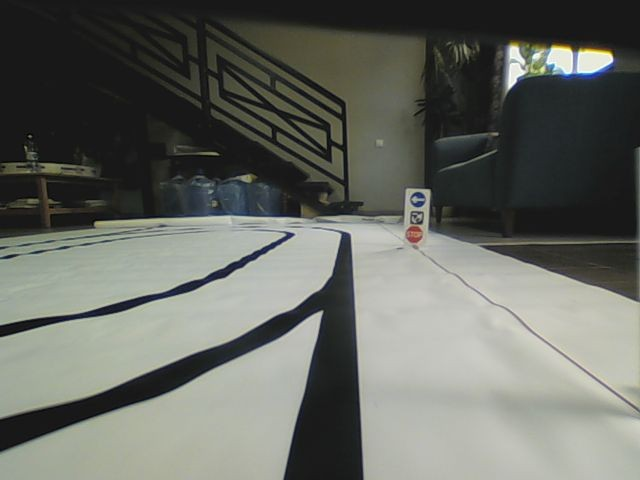Stop: (407, 226, 422, 242)
